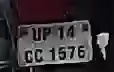1: (55, 24, 66, 43), (48, 48, 58, 63)
4: (66, 26, 77, 42)
5: (56, 44, 67, 62)
6: (76, 45, 88, 61)
7: (67, 45, 76, 60)
C: (32, 49, 47, 63), (24, 49, 33, 64)
P: (41, 27, 53, 44)
U: (29, 26, 42, 44)
